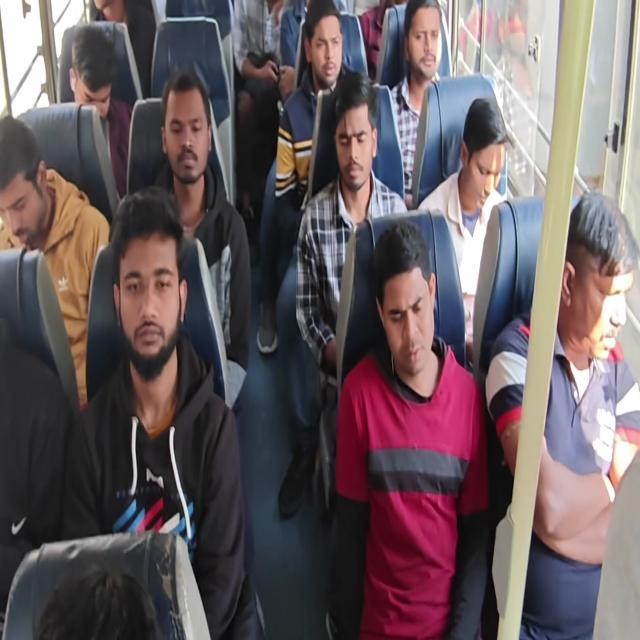person: (536, 200, 638, 364), (108, 215, 196, 378), (366, 253, 442, 383), (0, 120, 55, 236), (162, 91, 216, 191), (457, 128, 508, 216), (55, 46, 114, 112), (332, 108, 378, 182), (308, 12, 343, 87), (408, 0, 444, 72), (85, 0, 125, 28)
